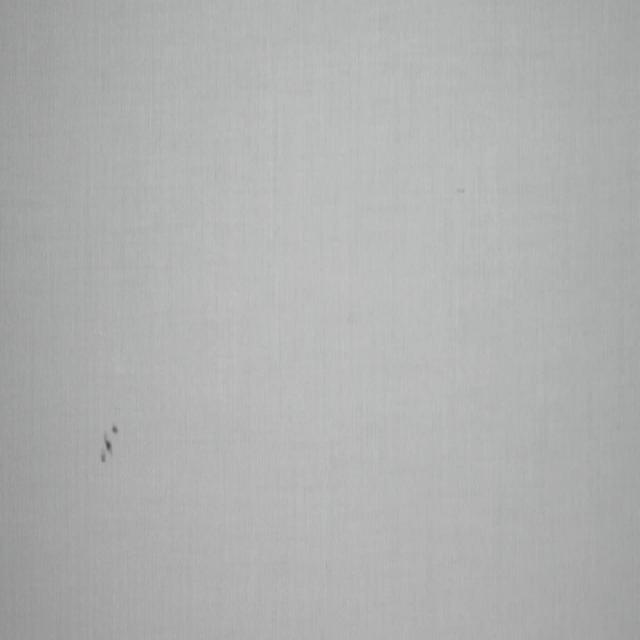dirty: (100, 419, 119, 463)
